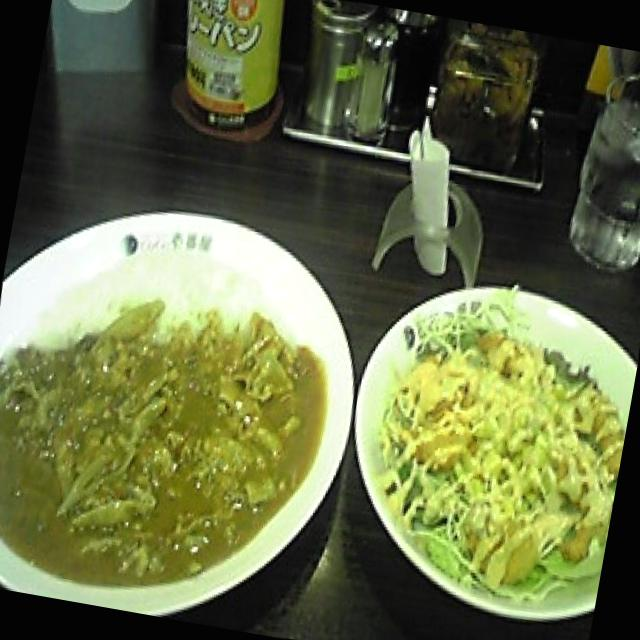Beef Curry: (0, 284, 360, 617)
